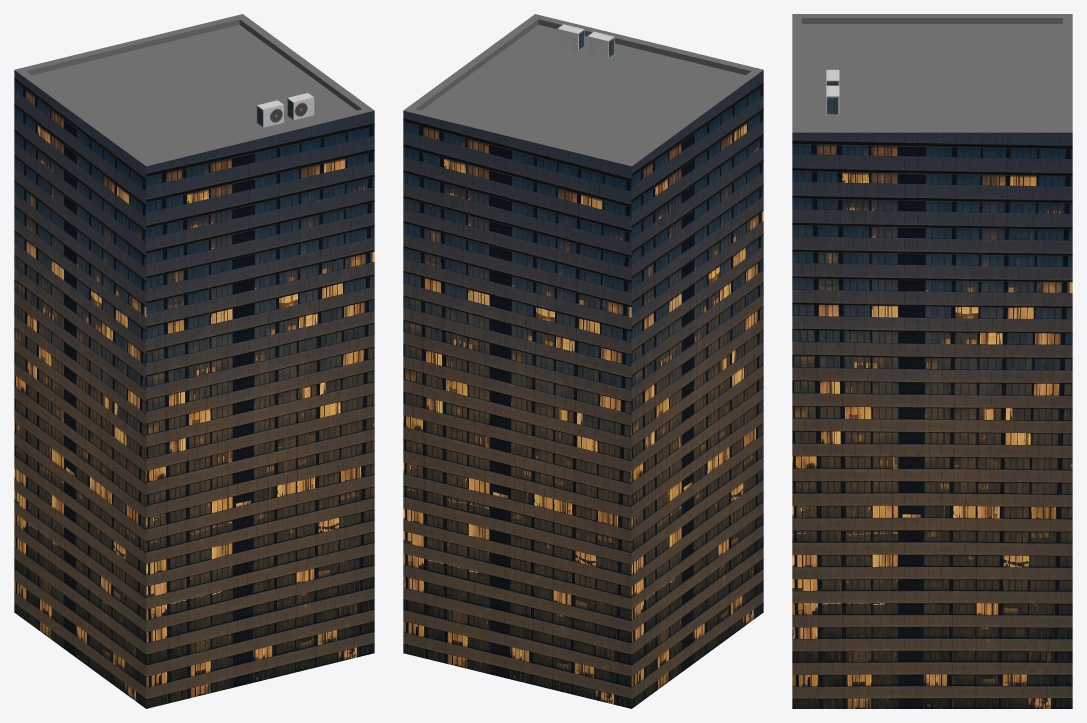
3 views of the same model, side by side, from view 1: azimuth 30°, elevation 25°; view 2: azimuth 150°, elevation 25°; view 3: azimuth 270°, elevation 25° (orthographic). The views are drawn at different scales.
Parts seen in each view (by area): view 1: Building; view 2: Building; view 3: Building.
Part boxes in pixels (<box>): Building: <box>14,14,374,708</box>; Building: <box>403,14,763,708</box>; Building: <box>792,14,1072,708</box>.
Bounding box in the file's own units: 37.45 × 86.87 × 37.45.
Materials: 3 (2 with a texture image).
